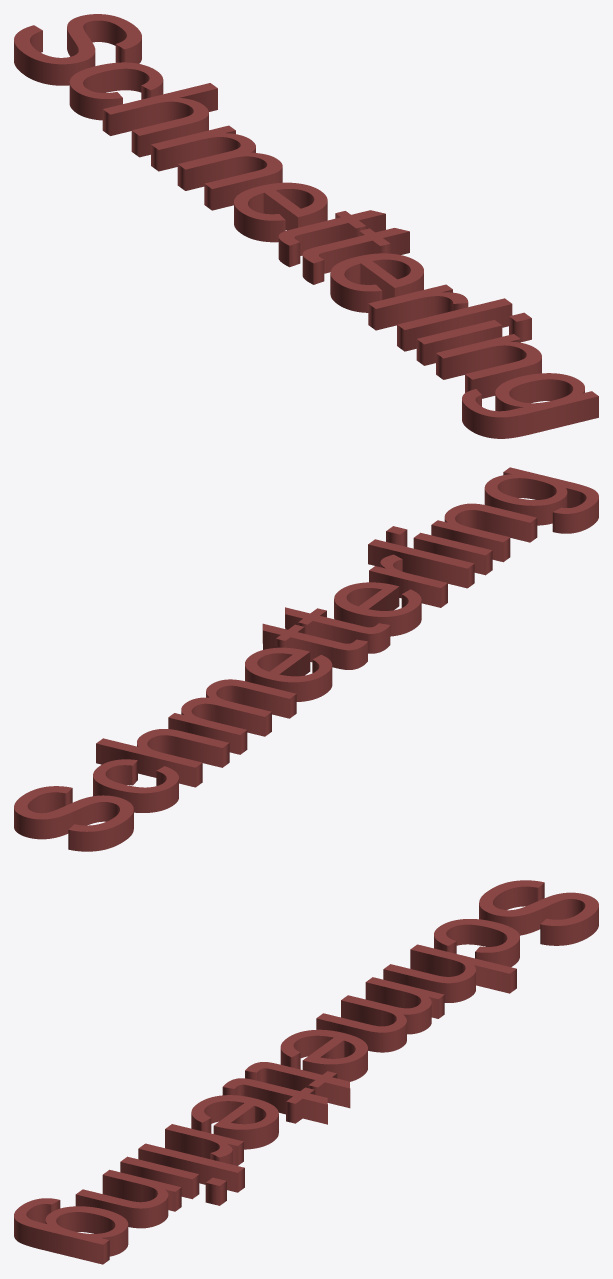
File: Schmetterling_Text.glb
The picture shows the model from 3 angles, top to bottom: view 1: azimuth 30°, elevation 25°; view 2: azimuth 150°, elevation 25°; view 3: azimuth 330°, elevation 25°; orthographic projection. The views are drawn at different scales.
Visible parts, largest first — view 1: Text; view 2: Text; view 3: Text.
Boxes of the visible parts, x1,y1,x2,y2 form: Text: (14, 14, 598, 438); Text: (14, 467, 598, 851); Text: (14, 880, 598, 1264).
Size of the model in its own units: 2.06 by 0.3 by 13.2.
